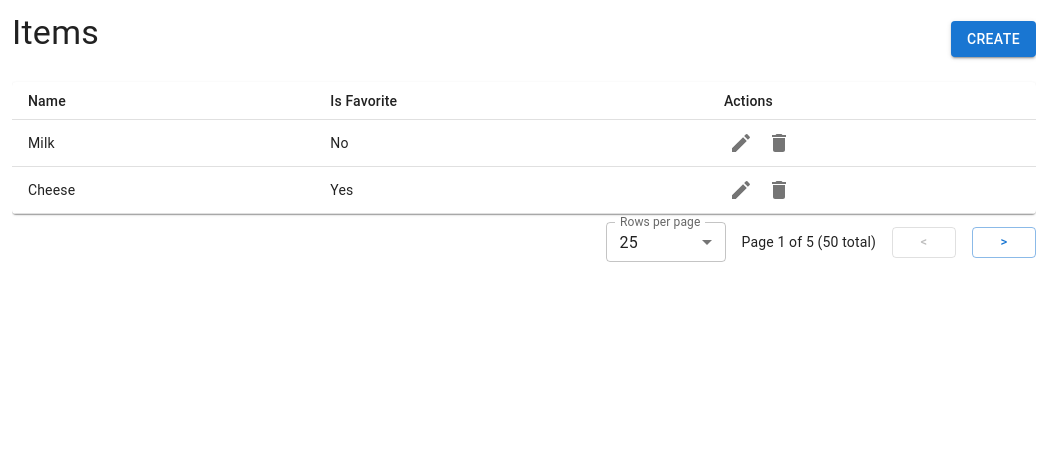
Scenario: DataTable › renders pagination footer with correct defaults and disabled controls
Expected: the text "Page 1 of 5 (50 total)" is shown, x1=742 y1=232 x2=876 y2=252
Expected: the button "<" is disabled, x1=892 y1=227 x2=956 y2=258
Press the mouse on the dropdown named "Rows per page" at coordinates (629, 242), box x1=620 y1=233 x2=638 y2=252
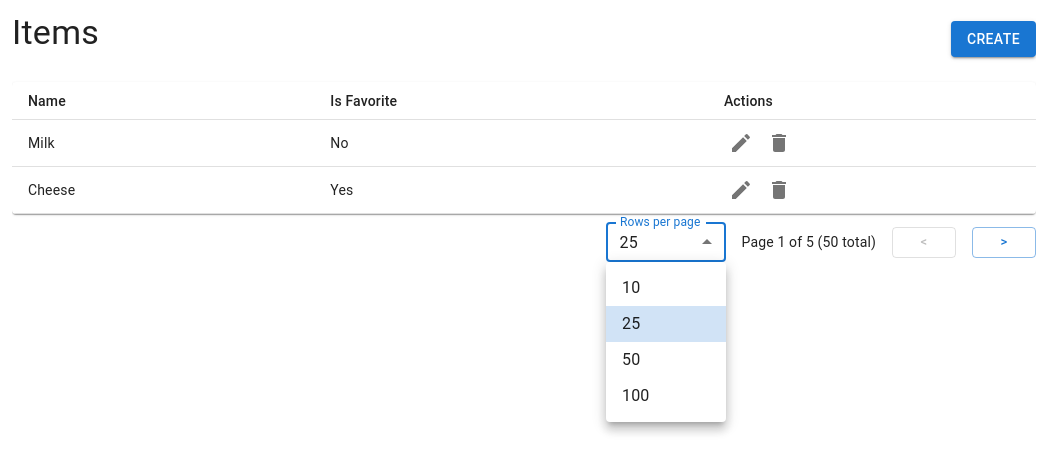
Now the number of options is 4, box x1=622 y1=278 x2=640 y2=297; x1=606 y1=306 x2=726 y2=342; x1=622 y1=350 x2=640 y2=369; x1=622 y1=386 x2=649 y2=405
Now the options read "10", "25", "50", "100", in this order, box x1=622 y1=278 x2=640 y2=297; x1=606 y1=306 x2=726 y2=342; x1=622 y1=350 x2=640 y2=369; x1=622 y1=386 x2=649 y2=405
